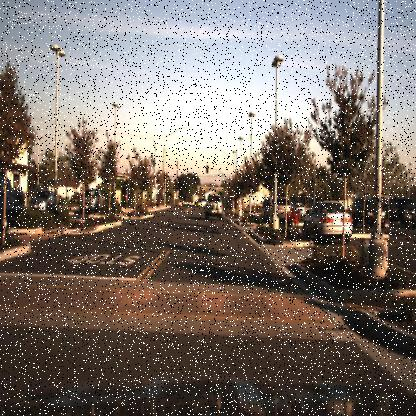car: (305, 198, 350, 240), (348, 194, 388, 227), (27, 187, 57, 221), (387, 195, 416, 227), (202, 187, 225, 221), (78, 188, 108, 214), (270, 192, 291, 223), (293, 201, 309, 217)
trafficLight-Red: (204, 162, 210, 174), (172, 178, 176, 188)
